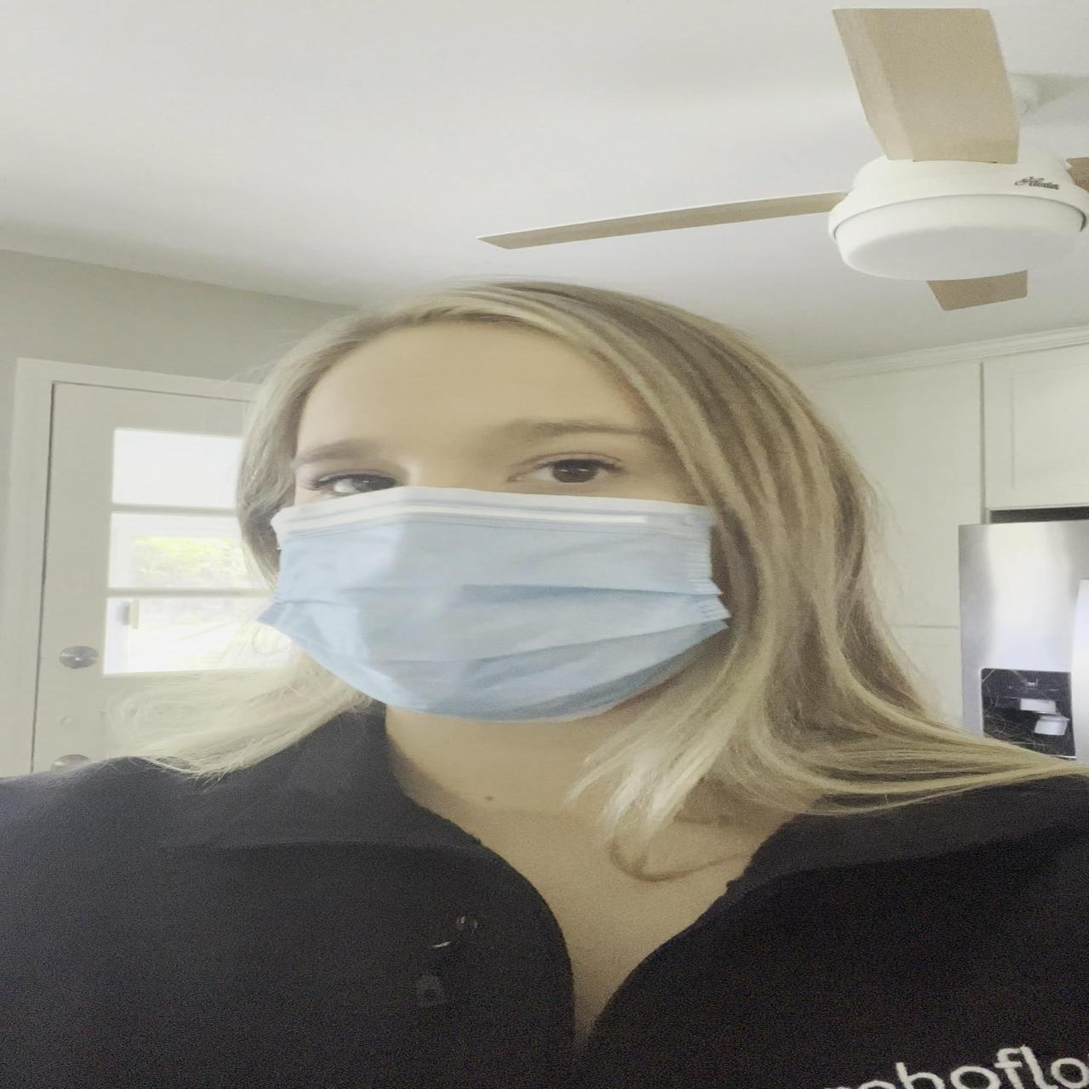NO_Safety_Vest: (21, 737, 1088, 1089)
Person: (0, 277, 1089, 1089)
